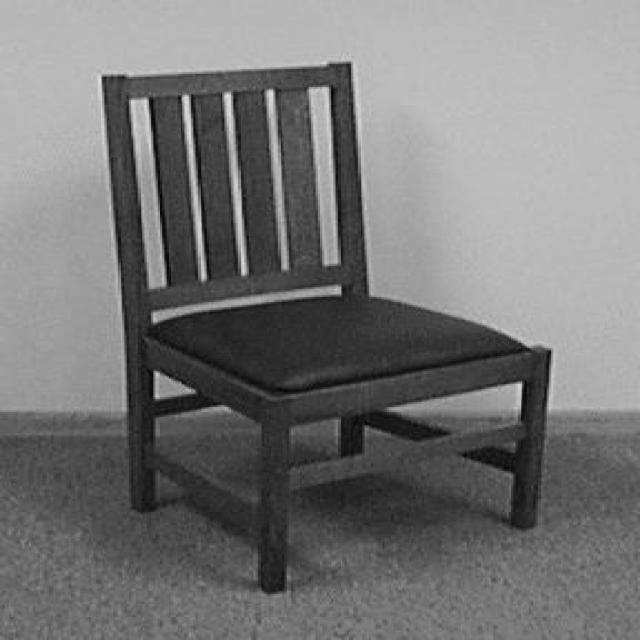chair: (101, 58, 553, 595)
